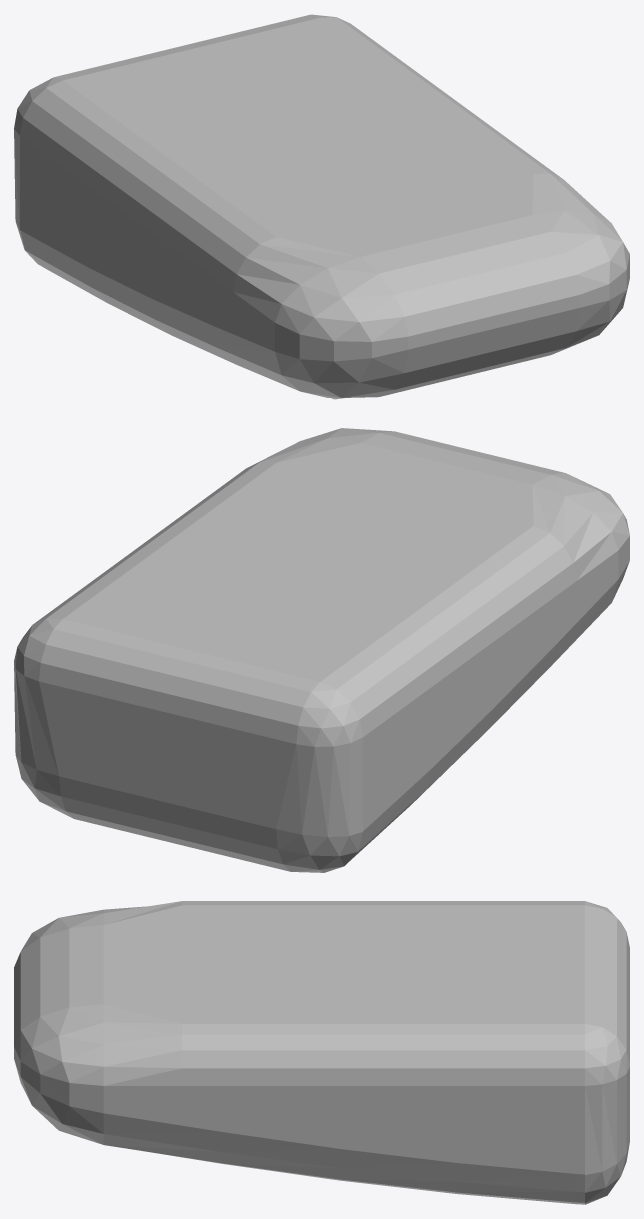
The model's file is RoadLight12.obj.
The picture shows the model from 3 angles, top to bottom: view 1: azimuth 30°, elevation 25°; view 2: azimuth 150°, elevation 25°; view 3: azimuth 270°, elevation 25°; orthographic projection. The views are drawn at different scales.
Size of the model in its own units: 1 by 0.5408 by 1.65.
